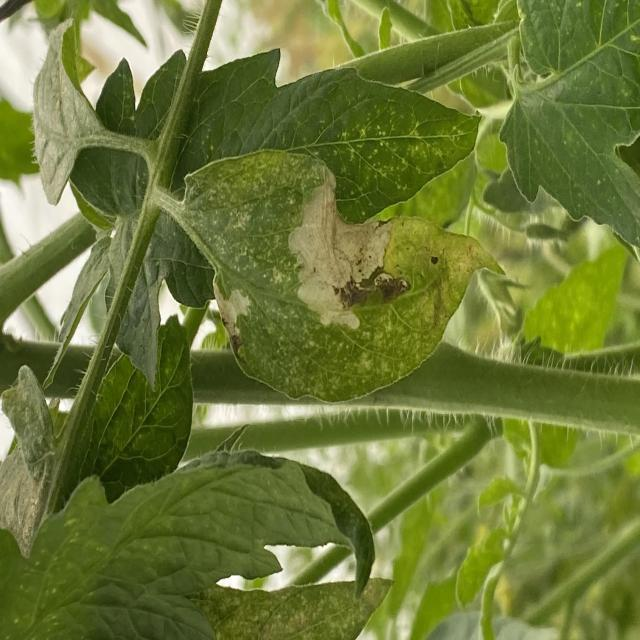Tuta absoluta: (262, 166, 410, 337), (210, 271, 263, 355)
